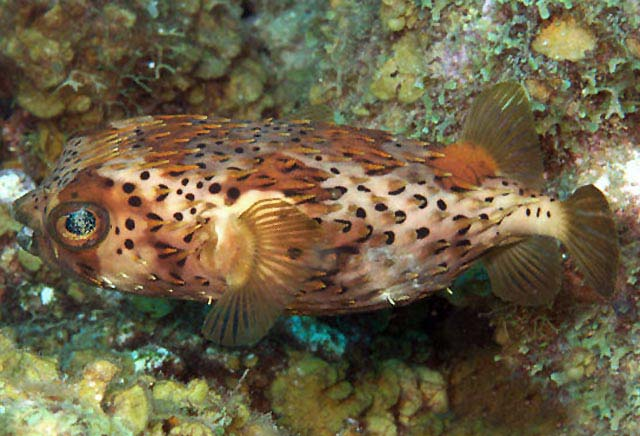Diodon_holocanthus: (21, 90, 626, 355)
